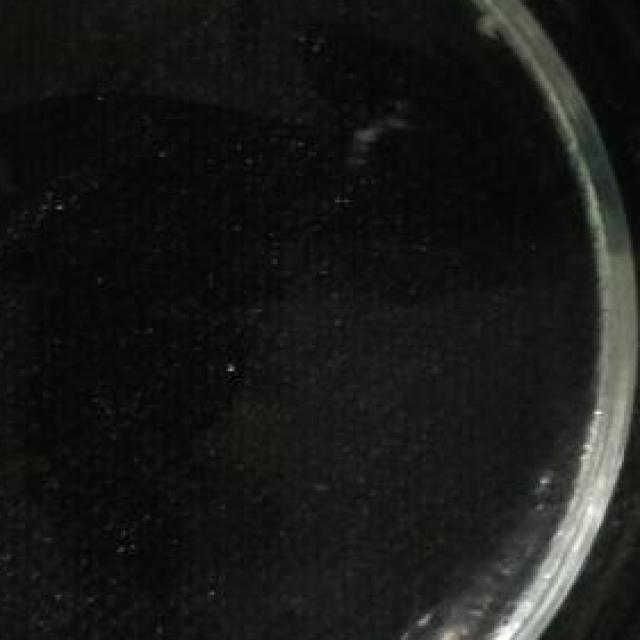Microplastic: (328, 81, 417, 169), (453, 0, 514, 52), (517, 0, 579, 31)
